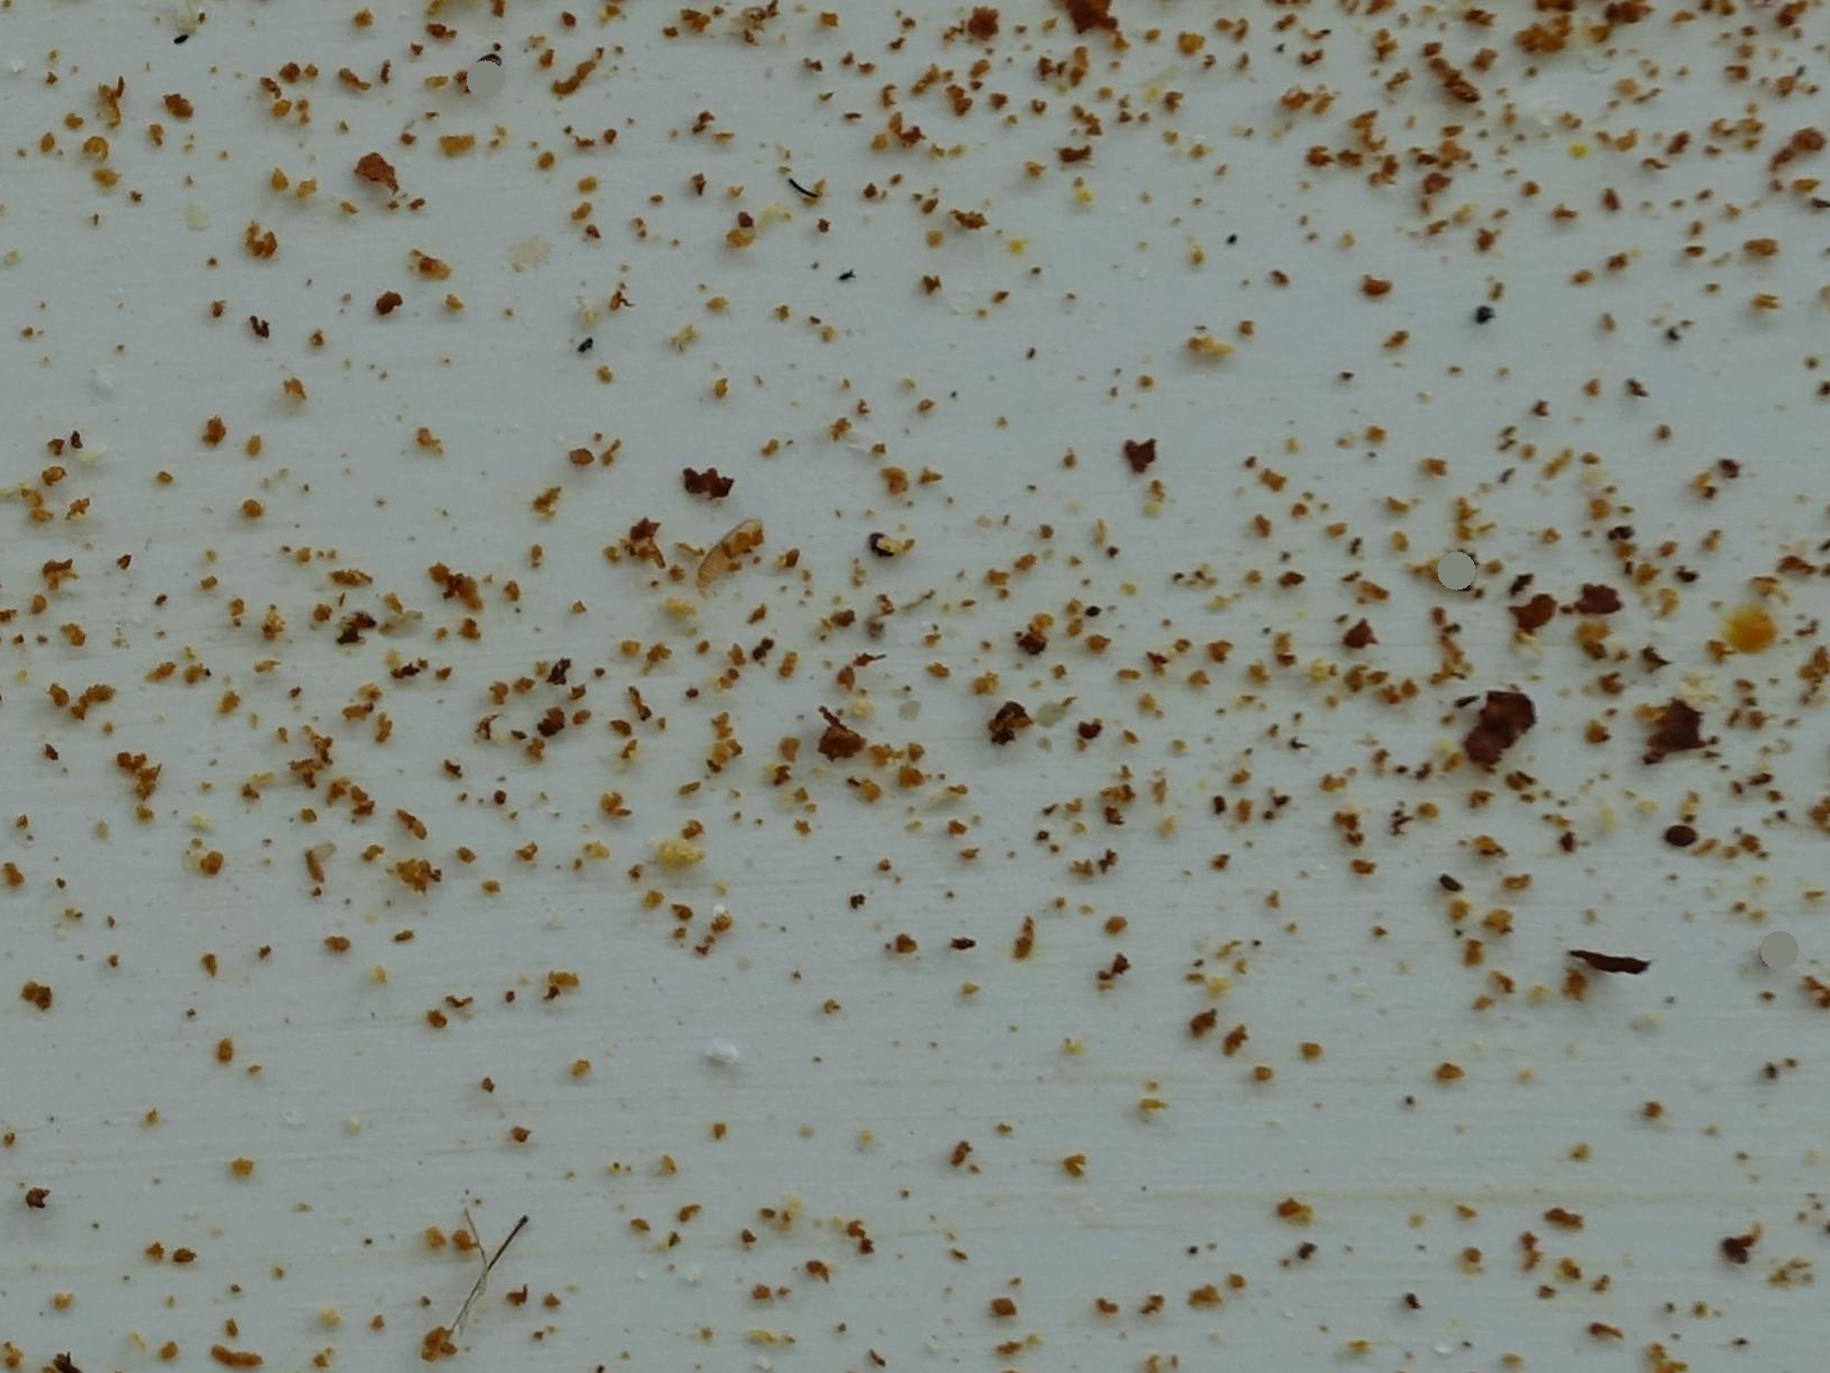Varroa: (485, 46, 510, 74), (1668, 822, 1694, 847), (1733, 1242, 1754, 1266)
